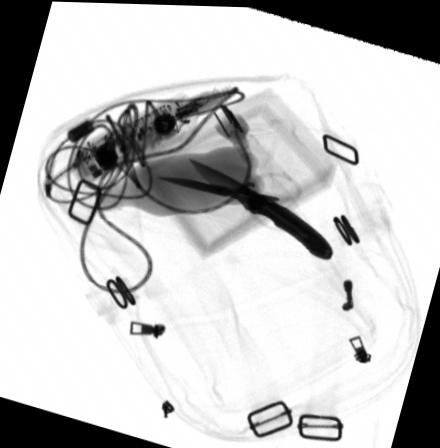Knife: (188, 158, 330, 259)
Scissors: (153, 168, 304, 234)
